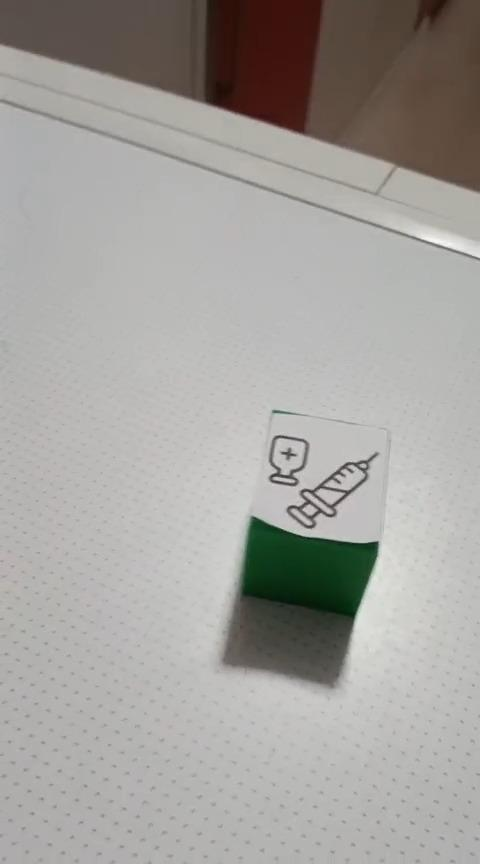antiseptic cream: (239, 407, 391, 618)
